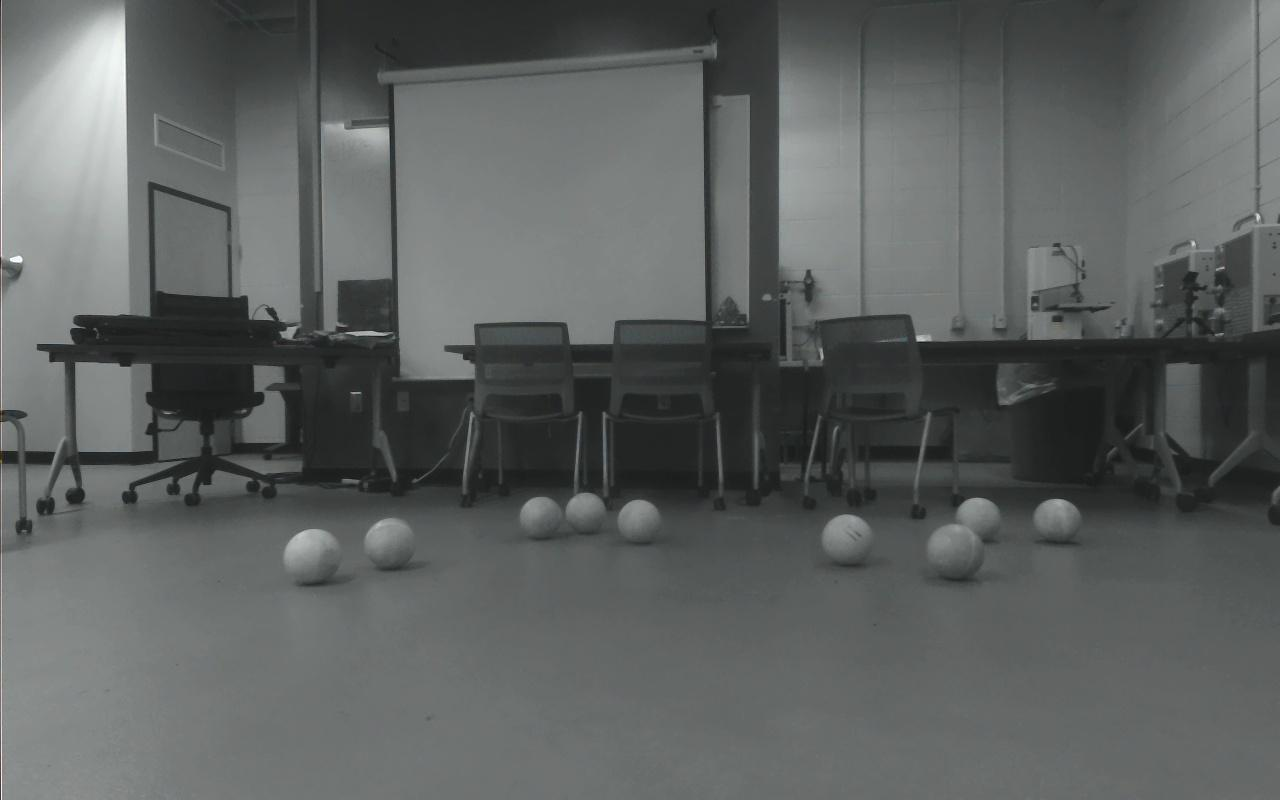Fuel: (928, 523, 986, 580), (284, 529, 342, 585), (365, 518, 416, 570), (822, 514, 873, 566), (1033, 498, 1082, 544), (955, 497, 1002, 542), (617, 499, 662, 544), (518, 496, 563, 540), (564, 492, 607, 534)
